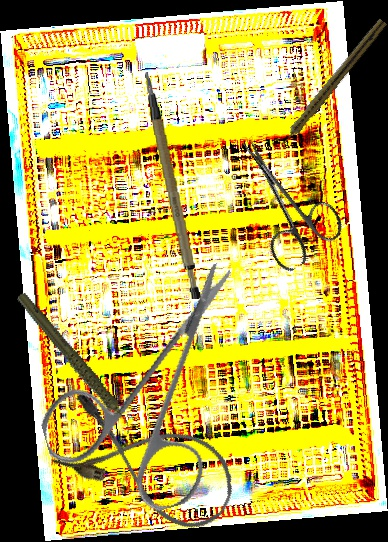Cannula: (46, 384, 249, 541)
Handpiece: (15, 275, 134, 453), (275, 16, 388, 150)
Iris Scissors: (11, 260, 289, 536), (212, 121, 351, 276)
Scalpel Handle: (144, 68, 204, 302)
